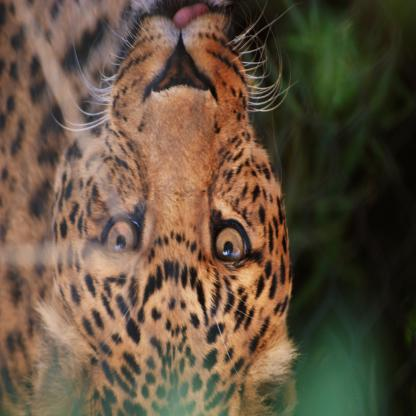leopard: (45, 0, 302, 411)
